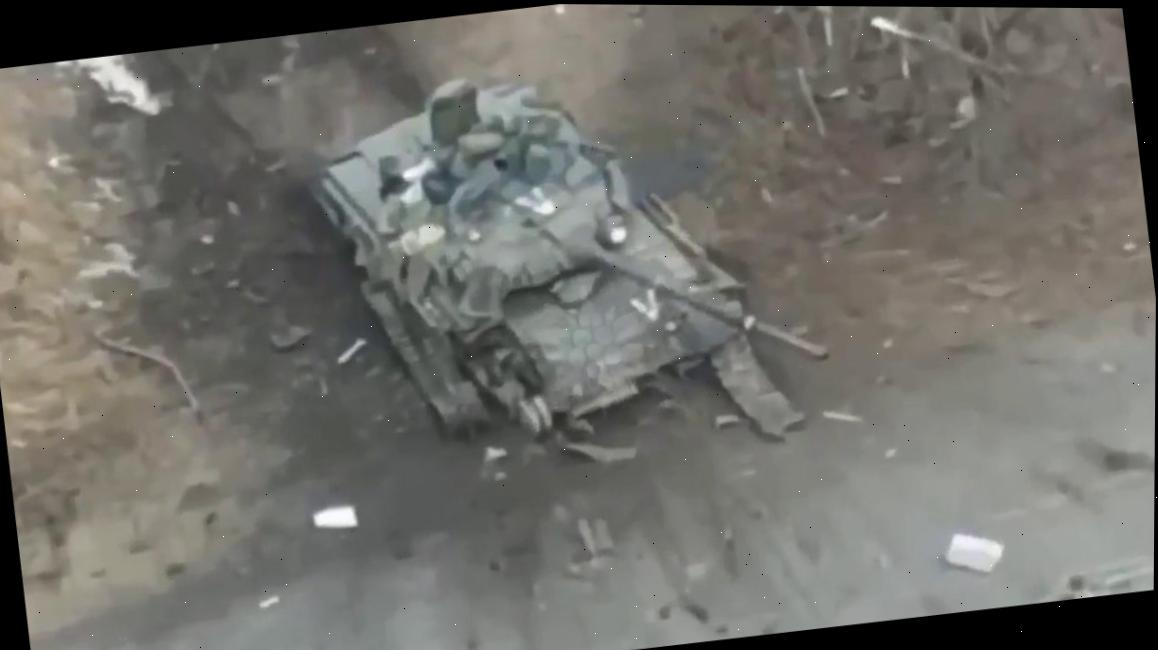tank: (298, 33, 843, 490)
